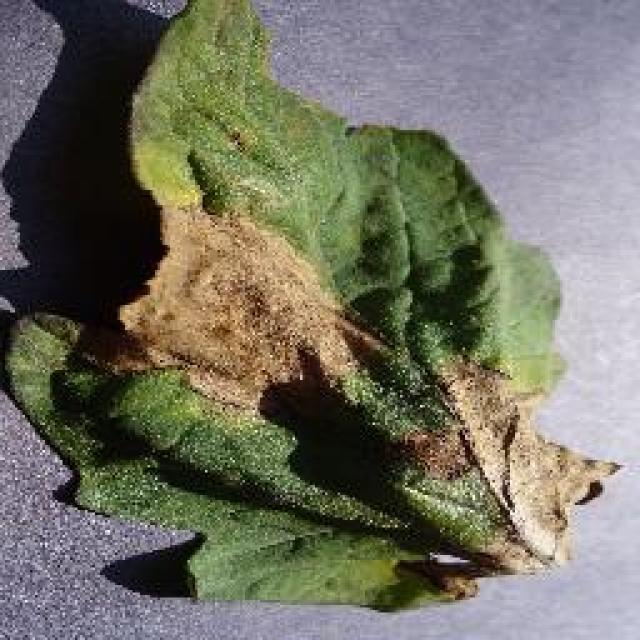Tomato Late Blight: (93, 192, 592, 563)
